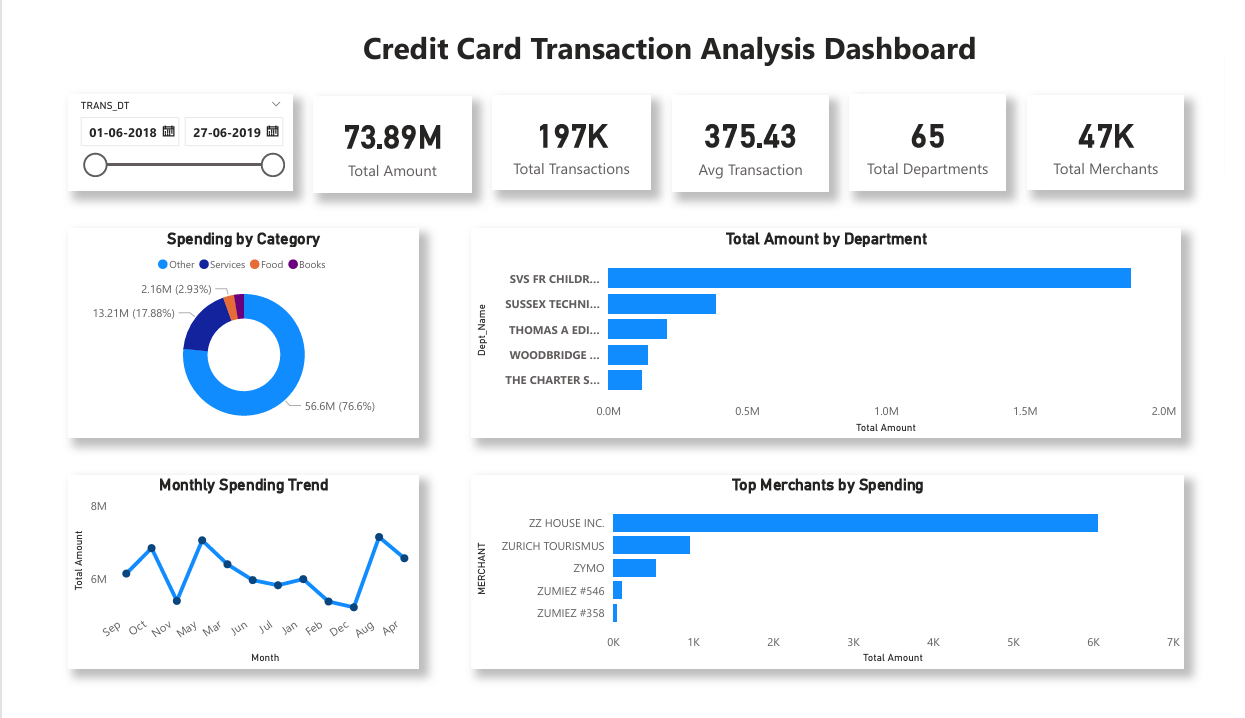

The page's visual inventory and layout, read from the dashboard file:
{"tool":"powerbi","page":{"name":"Page 1","canvas":[1280,720],"ordinal":0},"visuals":[{"type":"card","fields":{"Values":["Credit_Card.Total Amount"]},"box":[308.3,80,168.6,102.9],"z":0},{"type":"card","fields":{"Values":["Credit_Card.Total Transactions"]},"box":[499.4,78.6,168.6,101.4],"z":1000},{"type":"card","fields":{"Values":["Credit_Card.Avg Transaction"]},"box":[690.6,79.1,167.1,102.9],"z":2000},{"type":"card","fields":{"Values":["Credit_Card.Total Departments"]},"box":[880.3,78.3,167.1,102.9],"z":3000},{"type":"card","fields":{"Values":["Credit_Card.Total Merchants"]},"box":[1070,78.9,167.1,101.4],"z":4000},{"type":"textbox","box":[355.7,0,668.6,70],"z":5000},{"type":"slicer","fields":{"Values":["Credit_Card.TRANS_DT"]},"box":[47.1,78,238.6,102.9],"z":6000},{"type":"clusteredBarChart","title":"Total Amount by Department","fields":{"Category":["Credit_Card.DEPT_NAME"],"Y":["Credit_Card.Total Amount"]},"box":[477.1,221.4,757.1,222.9],"z":7000},{"type":"donutChart","title":"Spending by Category","fields":{"Category":["Credit_Card.Column1"],"Y":["Credit_Card.Total Amount"]},"box":[47.1,221.4,374.3,222.9],"z":8000},{"type":"lineChart","title":"Monthly Spending Trend","fields":{"Category":["Credit_Card.Month"],"Y":["Credit_Card.Total Amount"]},"box":[47.1,484.3,374.3,205.7],"z":9000},{"type":"barChart","title":"Top Merchants by Spending","fields":{"Category":["Credit_Card.MERCHANT"],"Y":["Credit_Card.Total Amount"]},"box":[477.1,484.3,760,205.7],"z":10000}]}

Visuals, with their boxes in screenshot pixels (x1, y1, x2, y2), scaled from the page's 1280x720 canvas onto the 1245x718 screenshot:
card - Credit_Card.Total Amount: select_region(300, 80, 464, 182)
card - Credit_Card.Total Transactions: select_region(486, 78, 650, 180)
card - Credit_Card.Avg Transaction: select_region(672, 79, 834, 181)
card - Credit_Card.Total Departments: select_region(856, 78, 1019, 181)
card - Credit_Card.Total Merchants: select_region(1041, 79, 1203, 180)
textbox: select_region(346, 0, 996, 70)
slicer - Credit_Card.TRANS_DT: select_region(46, 78, 278, 180)
"Total Amount by Department" clusteredBarChart: select_region(464, 221, 1200, 443)
"Spending by Category" donutChart: select_region(46, 221, 410, 443)
"Monthly Spending Trend" lineChart: select_region(46, 483, 410, 688)
"Top Merchants by Spending" barChart: select_region(464, 483, 1203, 688)
